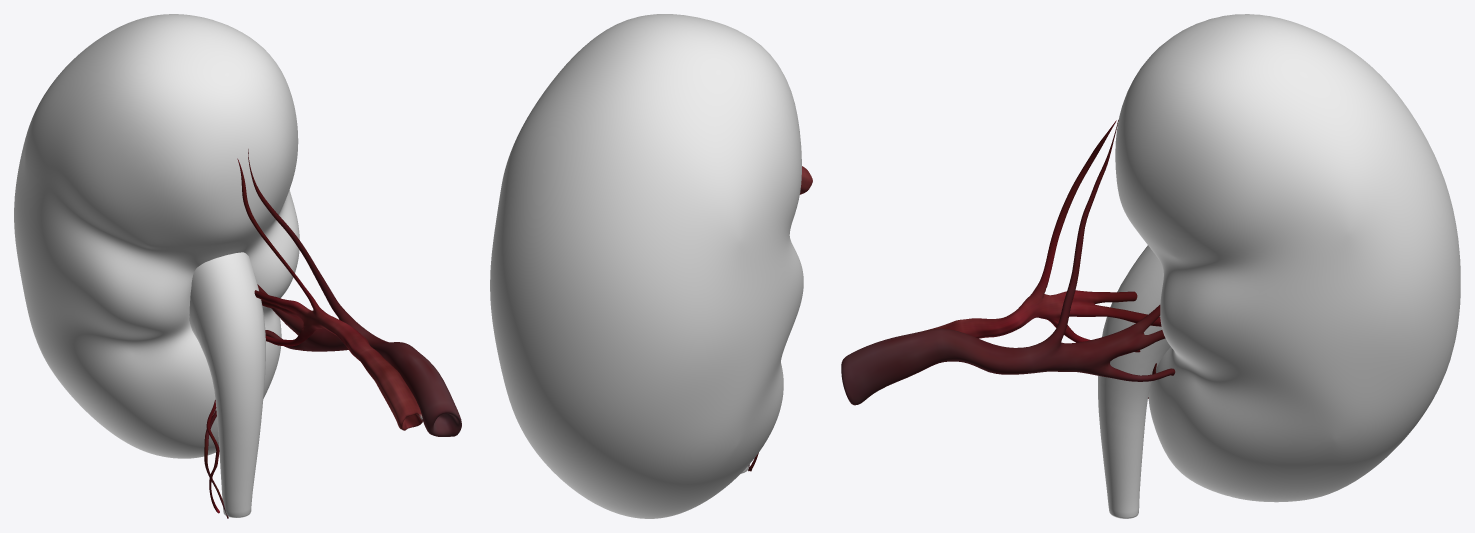
The model's file is Kidney.glb.
3 views of the same model, side by side, from view 1: azimuth 30°, elevation 25°; view 2: azimuth 150°, elevation 25°; view 3: azimuth 270°, elevation 25° (orthographic). The views are drawn at different scales.
Parts seen in each view (by area): view 1: base, New_Retopology_Mesh.003, kid; view 2: base; view 3: base, kid, New_Retopology_Mesh.003.
Part boxes in pixels (bbox=[...]): base: bbox=[14, 14, 299, 458]; New_Retopology_Mesh.003: bbox=[189, 252, 265, 517]; kid: bbox=[204, 149, 461, 518]; base: bbox=[490, 14, 803, 518]; base: bbox=[1115, 14, 1460, 502]; kid: bbox=[841, 120, 1175, 405]; New_Retopology_Mesh.003: bbox=[1098, 245, 1170, 518].
Size of the model in its own units: 1.38 by 2.52 by 2.9.
